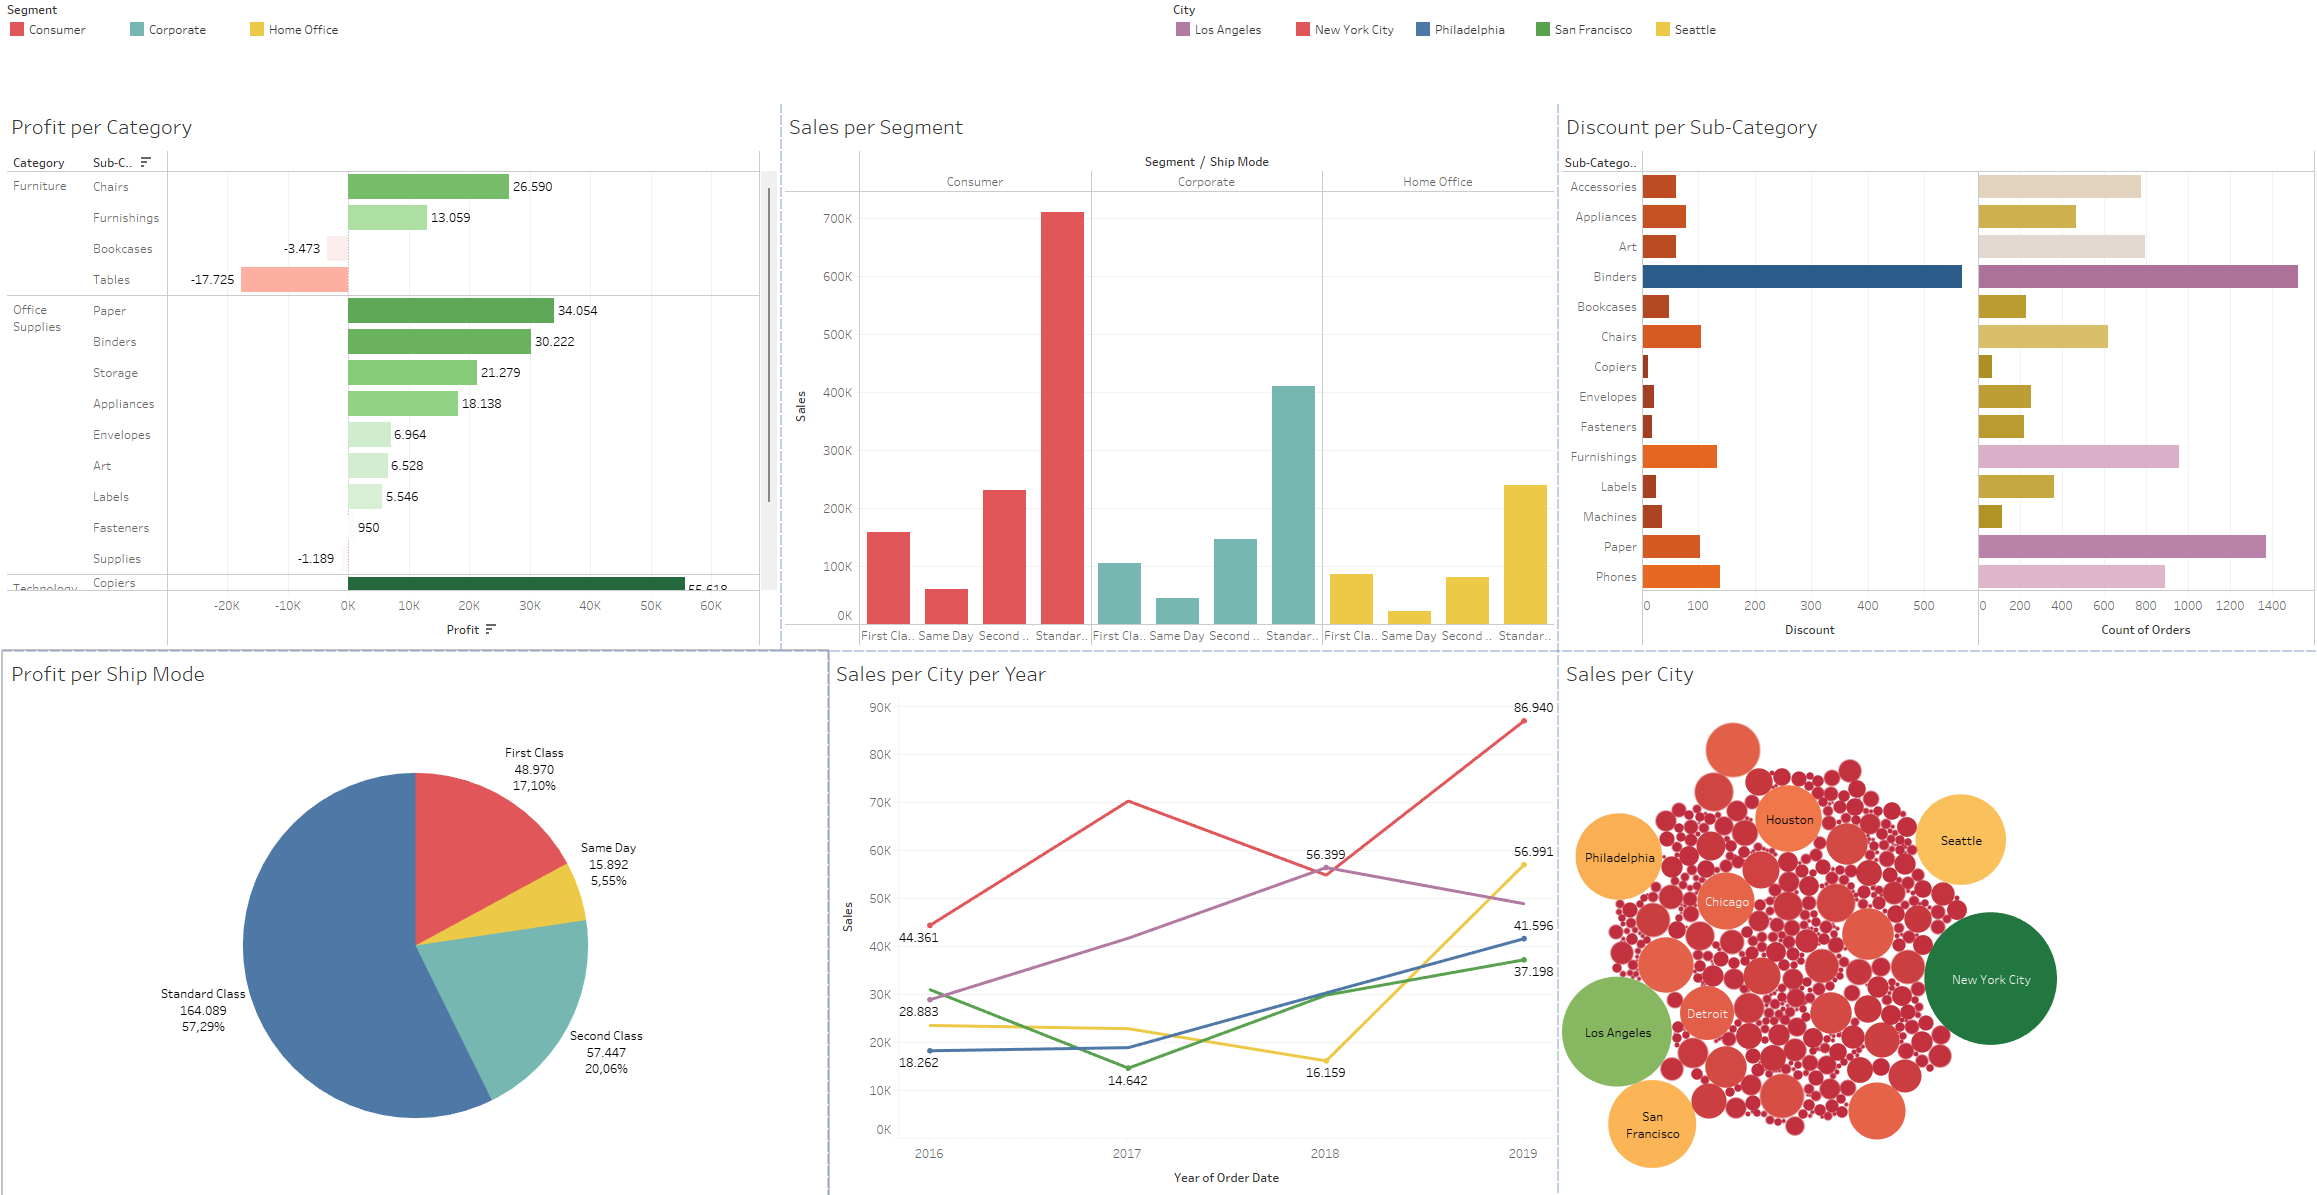

Layout of this report page (visuals, bound fields, positions):
{"tool":"tableau","page":{"name":"Dashboard","canvas":[1000,1000],"units":"permille","ordinal":0},"visuals":[{"type":"legend","title":"Sales per Segment","param":"[federated.0di84tz04kqudm13ah5ae1a4kq02].[none:Segment:nk]","box":[3.4,6.6,496.3,37.8]},{"type":"legend","title":"Sales per City per Year","param":"[federated.0di84tz04kqudm13ah5ae1a4kq02].[none:City:nk]","box":[499.7,6.6,496.9,88.1]},{"type":"worksheet","title":"Profit per Category","mark":"Automatic","rows":["Category","Sub-Category"],"cols":["Profit"],"box":[3.4,94.7,331,449.4]},{"type":"worksheet","title":"Sales per Segment","mark":"Automatic","rows":["Sales"],"cols":["Segment","Ship Mode"],"box":[334.4,94.7,331.1,449.4]},{"type":"worksheet","title":"Discount per Sub-Category","mark":"Automatic","rows":["Sub-Category"],"cols":["Discount","Orders_DE29C11C9A5C493D8E2E1ECE1D2B0E1C"],"box":[665.5,94.7,331.1,449.4]},{"type":"worksheet","title":"Profit per Ship Mode","mark":"Pie","box":[3.4,544,351.1,449.4]},{"type":"worksheet","title":"Sales per City per Year","mark":"Automatic","rows":["Sales"],"cols":["Order Date"],"box":[354.5,544,311,449.4]},{"type":"worksheet","title":"Sales per City","mark":"Circle","box":[665.5,544,331.1,449.4]}]}

Visuals, with their boxes on the dashboard's canvas, which has no fixed pixel size, in thousandths of its width and height (x1, y1, x2, y2). These are canvas units, not pixel positions in the 2317x1195 screenshot, which may show the page scaled, cropped or inside an application window:
"Sales per Segment" legend: 3,7,500,44
"Sales per City per Year" legend: 500,7,997,95
"Profit per Category" worksheet: 3,95,334,544
"Sales per Segment" worksheet: 334,95,666,544
"Discount per Sub-Category" worksheet: 666,95,997,544
"Profit per Ship Mode" worksheet (Pie marks): 3,544,354,993
"Sales per City per Year" worksheet: 354,544,666,993
"Sales per City" worksheet (Circle marks): 666,544,997,993
